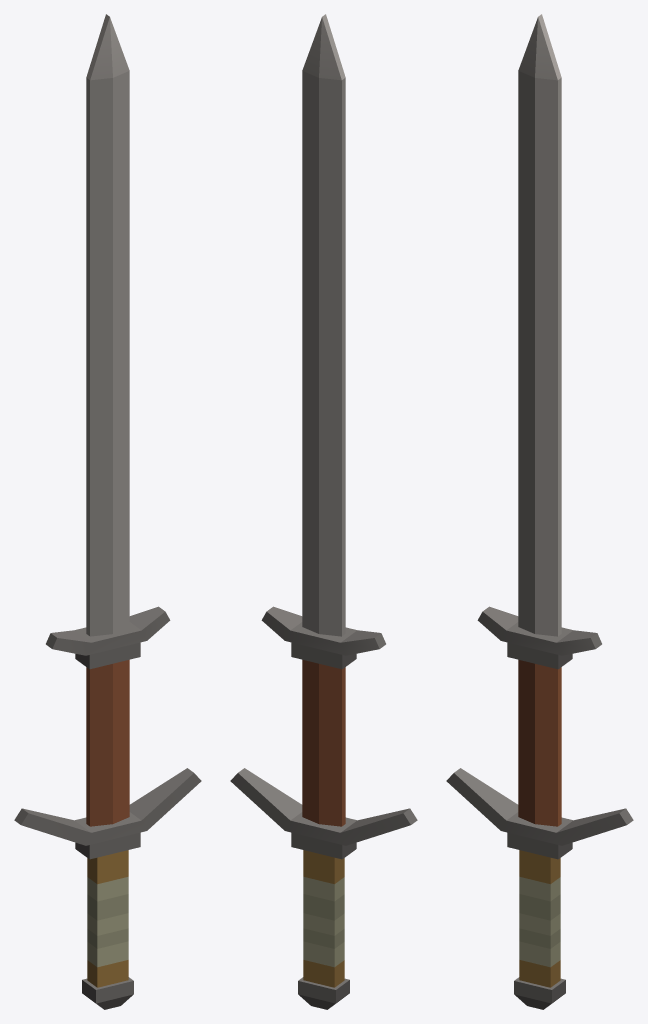
The model's file is SF_Wep_Human_Zweihander_01.fbx.
The picture shows the model from 3 angles, left to right: view 1: azimuth 30°, elevation 25°; view 2: azimuth 150°, elevation 25°; view 3: azimuth 330°, elevation 25°; orthographic projection.
Parts seen in each view (by area): view 1: SF_Wep_Human_Zweihander_01; view 2: SF_Wep_Human_Zweihander_01; view 3: SF_Wep_Human_Zweihander_01.
Part boxes in pixels (<box>): SF_Wep_Human_Zweihander_01: <box>14,14,201,1009</box>; SF_Wep_Human_Zweihander_01: <box>230,14,417,1009</box>; SF_Wep_Human_Zweihander_01: <box>446,14,633,1009</box>.
Bounding box in the file's own units: 0.7199 × 3.76 × 0.1178.
